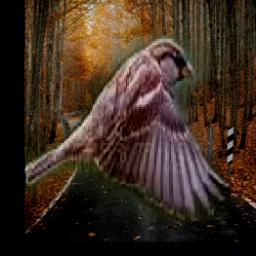Sparrow: (25, 36, 231, 222)
